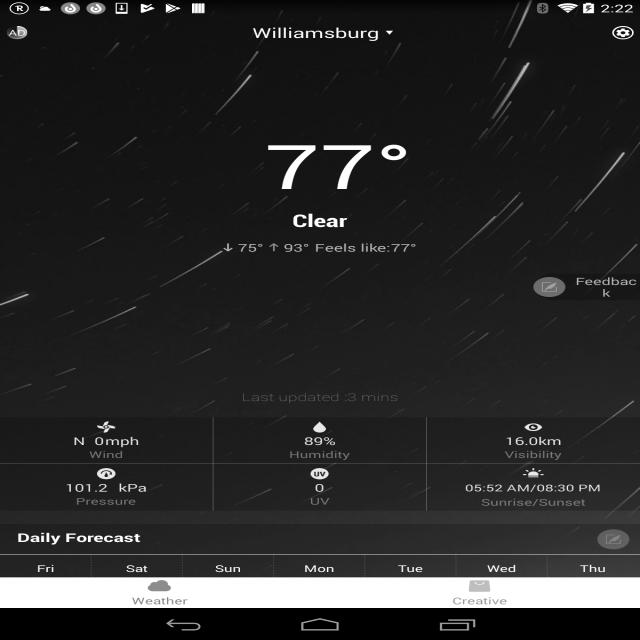ImageButton: (609, 23, 638, 40)
ImageView: (528, 274, 568, 300), (457, 576, 508, 596), (135, 580, 180, 594)
TextView: (23, 560, 614, 576), (261, 138, 410, 190), (219, 237, 419, 255), (458, 484, 603, 508), (13, 527, 148, 546), (247, 22, 396, 39), (569, 276, 638, 298), (289, 210, 351, 231), (59, 480, 154, 492), (498, 433, 565, 448), (66, 437, 144, 449), (289, 434, 340, 448), (308, 483, 335, 507)
